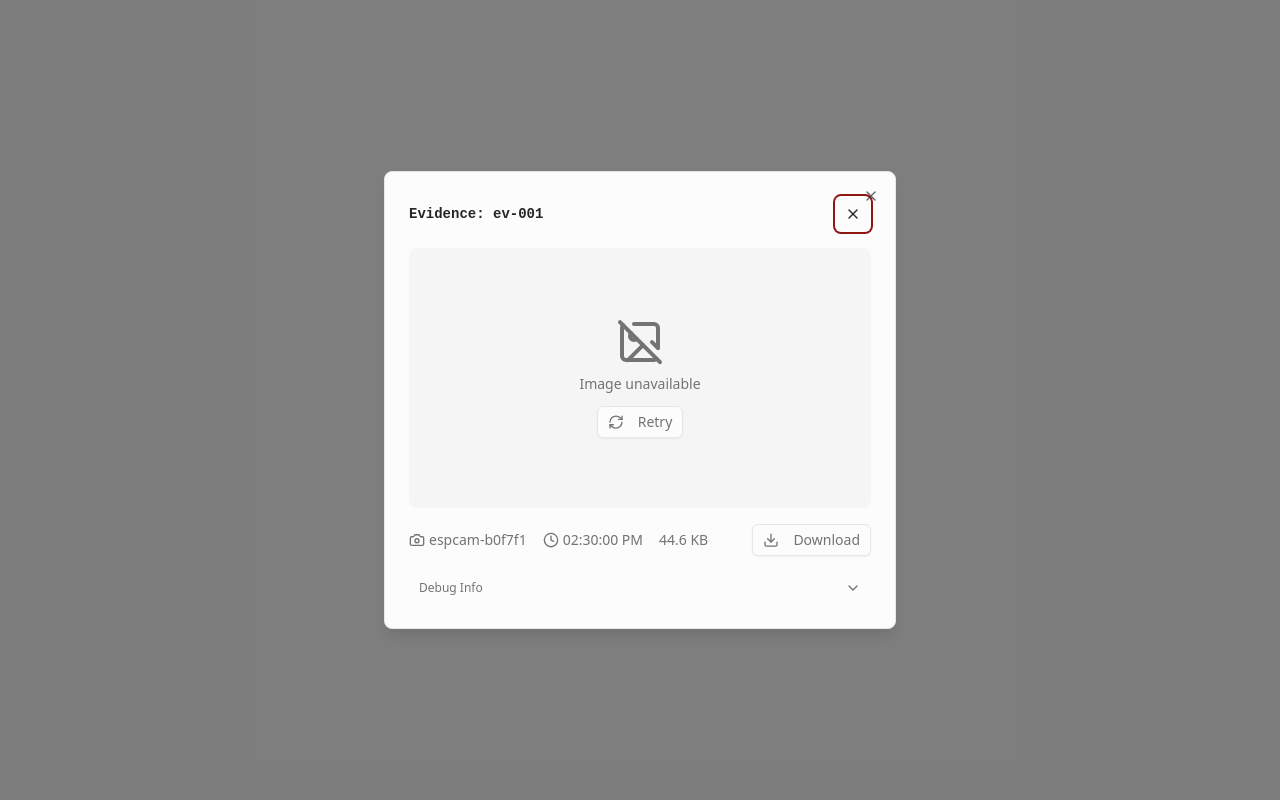
Test case: EvidencePreviewModal › error and retry › retry button resets and allows re-loading
What coordinates should you click on to do the following:
click the button with test id "preview-retry-button"
I would click on:
 (640, 422)
Its box is [597, 406, 683, 438].
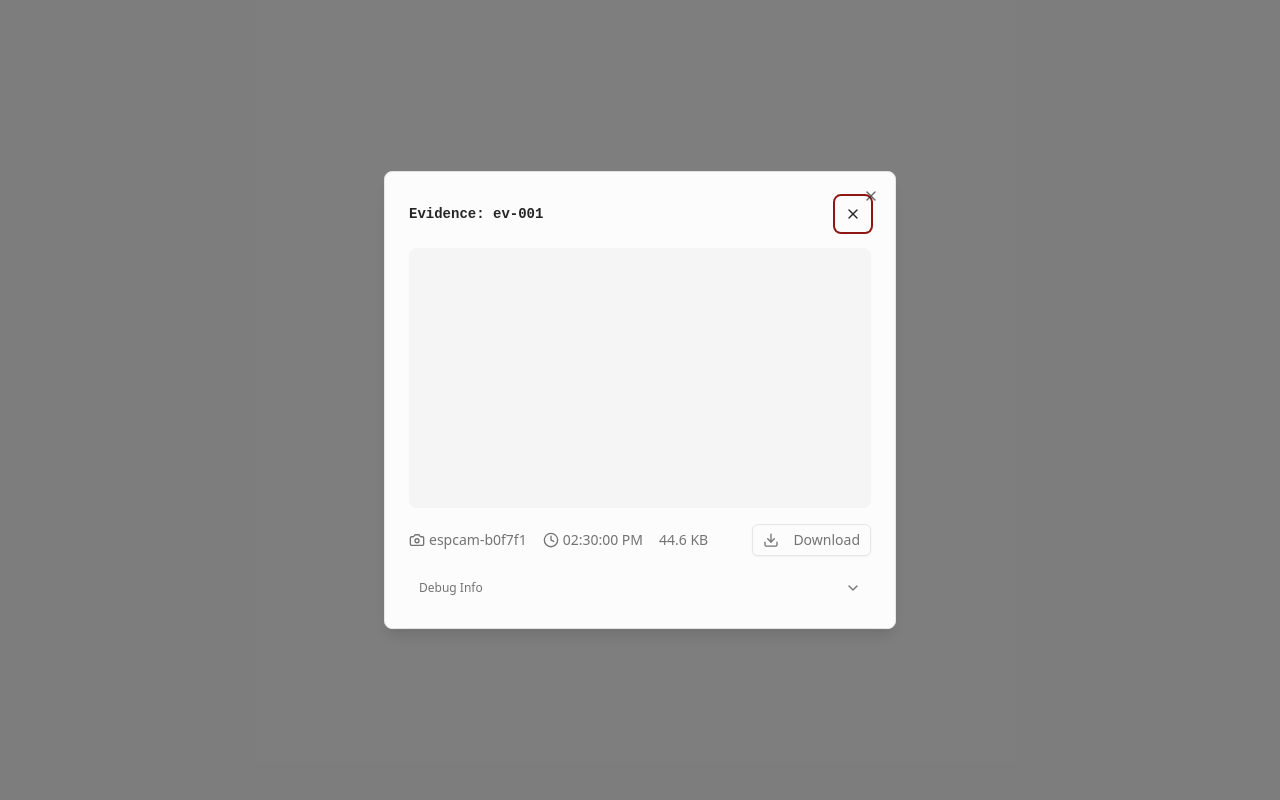
Check: the button with test id "preview-retry-button" is gone
